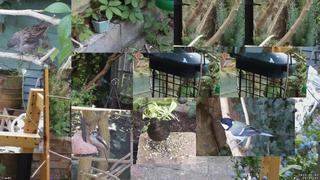blackbird: (147, 118, 176, 154)
dunnock: (5, 20, 51, 61)
great tit: (216, 118, 275, 150)
long tailed tit: (89, 130, 110, 172)
